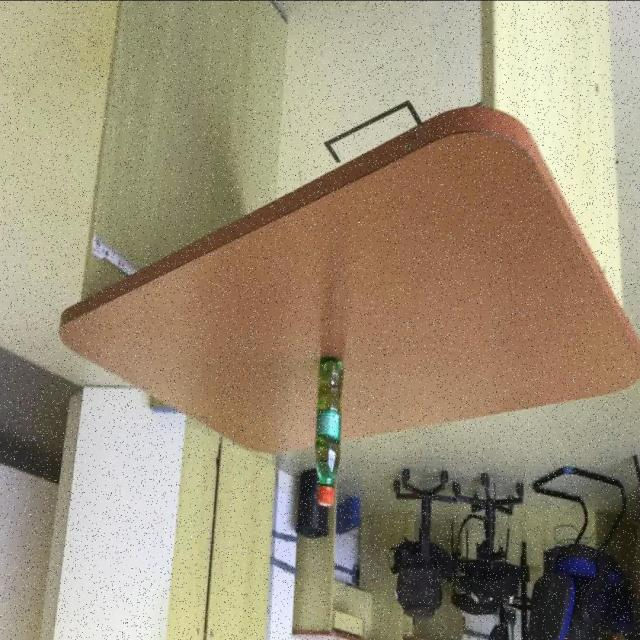Guarana: (56, 100, 640, 465), (314, 353, 343, 506)
